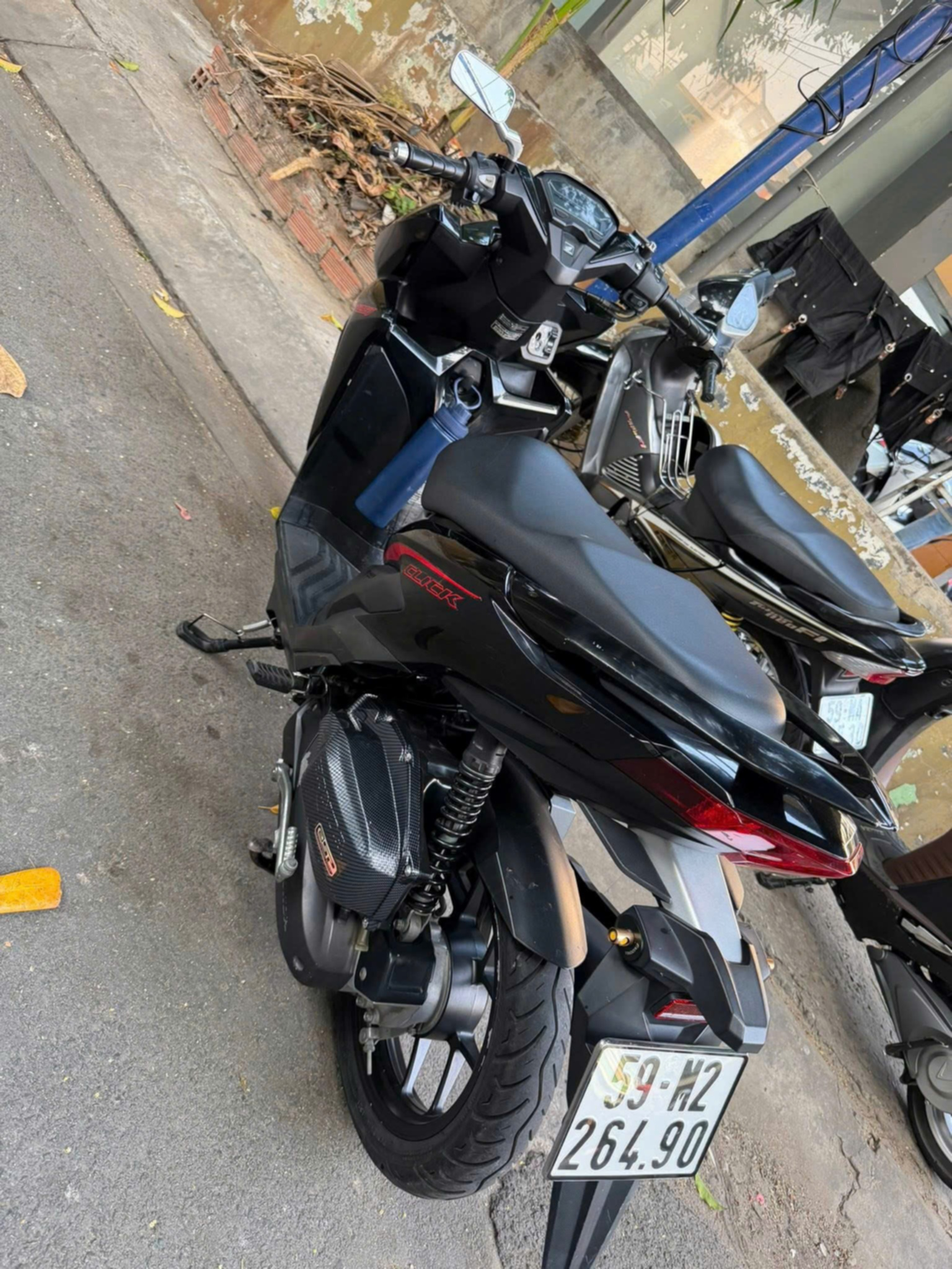Bien-so: (556, 1037, 743, 1185), (819, 696, 870, 755)
